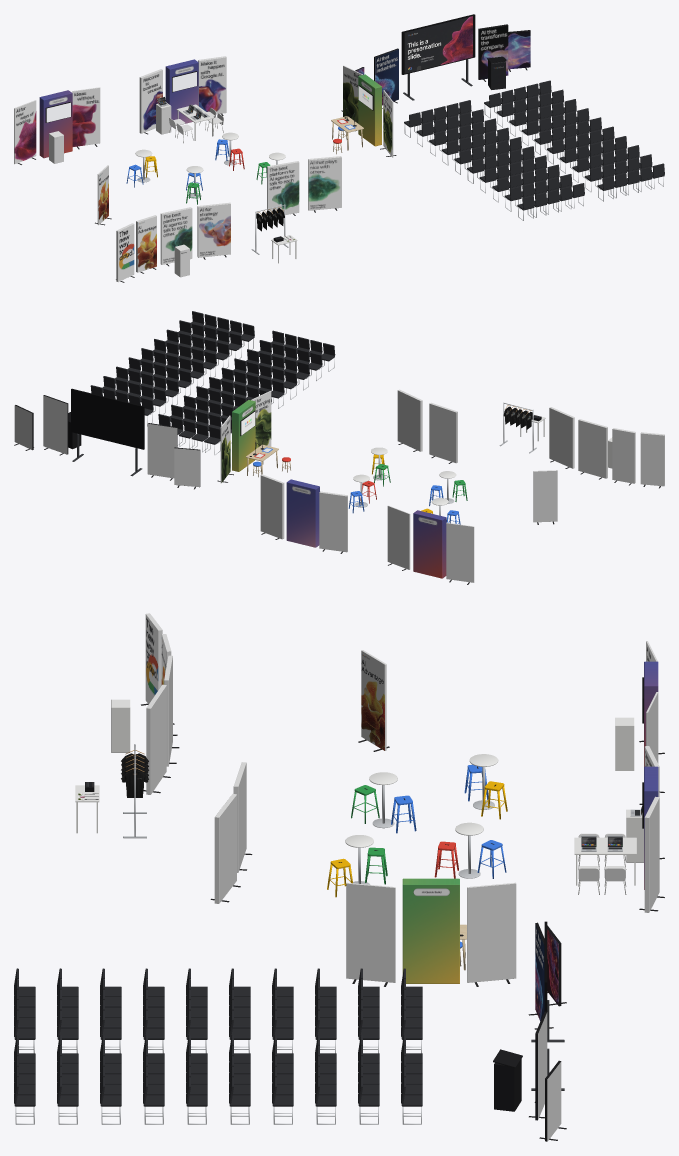
File: kit-google.glb
The picture shows the model from 3 angles, top to bottom: view 1: azimuth 30°, elevation 25°; view 2: azimuth 150°, elevation 25°; view 3: azimuth 270°, elevation 25°; orthographic projection. The views are drawn at different scales.
Visible parts, largest first — view 1: PS_Ecran, TP_Rollup, AC_Totem_4, CA_Totem_droit, TB_Rollup, ME_Totem_droit, AC_Totem_3, CA_Borne, CA_Totem_gauche, ME_Borne, QB_Borne, PS_Totem_droit (+14 smaller); view 2: PS_Ecran, CA_Borne, ME_Borne, ME_Totem_gauche, CA_Totem_gauche, AC_Totem_3, TB_Rollup, PS_Totem_gauche, ME_Totem_droit, AC_Totem_4, TP_Rollup, CA_Totem_droit (+9 smaller); view 3: QB_Borne, QB_Totem_gauche, QB_Totem_droit, TA_Rollup, TP_Rollup, AC_Totem_4, ME_Totem_droit, PS_Pupitre, AC_Totem_1, PS_Totem_droit, PS_Panneau_droit, CA_Socle (+5 smaller).
Boxes of the visible parts, bbox=[...] form: PS_Ecran: bbox=[401, 14, 475, 74]; TP_Rollup: bbox=[308, 156, 341, 210]; AC_Totem_4: bbox=[197, 202, 230, 257]; CA_Totem_droit: bbox=[72, 87, 100, 146]; TB_Rollup: bbox=[267, 161, 299, 216]; ME_Totem_droit: bbox=[198, 56, 226, 114]; AC_Totem_3: bbox=[160, 207, 192, 264]; CA_Borne: bbox=[39, 90, 72, 158]; CA_Totem_gauche: bbox=[14, 100, 36, 164]; ME_Borne: bbox=[165, 59, 198, 126]; QB_Borne: bbox=[358, 74, 381, 146]; PS_Totem_droit: bbox=[478, 24, 508, 79]; PS_Ecran: bbox=[71, 388, 144, 449]; CA_Borne: bbox=[413, 510, 446, 578]; ME_Borne: bbox=[286, 479, 319, 547]; ME_Totem_gauche: bbox=[319, 491, 347, 552]; CA_Totem_gauche: bbox=[446, 522, 474, 582]; AC_Totem_3: bbox=[578, 419, 607, 478]; TB_Rollup: bbox=[429, 402, 457, 463]; PS_Totem_gauche: bbox=[147, 423, 177, 478]; ME_Totem_droit: bbox=[260, 474, 284, 539]; AC_Totem_4: bbox=[549, 407, 574, 468]; TP_Rollup: bbox=[397, 389, 422, 451]; CA_Totem_droit: bbox=[387, 505, 410, 569]; QB_Borne: bbox=[402, 878, 459, 983]; QB_Totem_gauche: bbox=[467, 882, 516, 982]; QB_Totem_droit: bbox=[346, 882, 395, 982]; TA_Rollup: bbox=[361, 650, 386, 750]; TP_Rollup: bbox=[214, 794, 236, 903]; AC_Totem_4: bbox=[146, 684, 166, 794]; ME_Totem_droit: bbox=[644, 796, 659, 912]; PS_Pupitre: bbox=[493, 1049, 522, 1111]; AC_Totem_1: bbox=[145, 613, 162, 704]; PS_Totem_droit: bbox=[535, 1011, 547, 1120]; PS_Panneau_droit: bbox=[545, 1060, 561, 1141]; CA_Socle: bbox=[615, 717, 634, 770].
Size of the model in its own units: 21.88 by 2.64 by 13.62.
54 materials, 31 textured.
